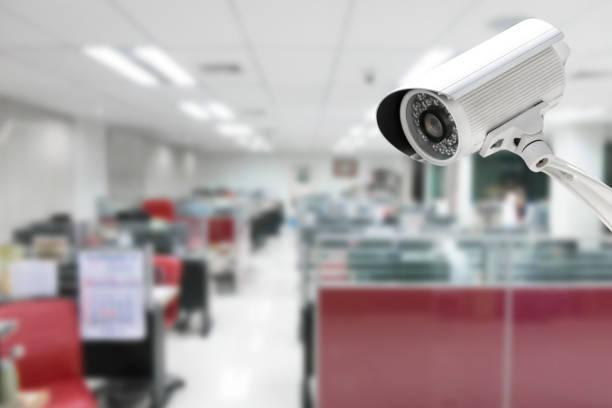camera: (345, 12, 612, 176)
